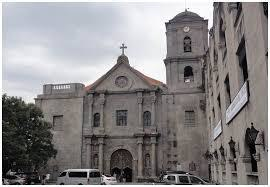san_agustin_church_intramuros_manila: (83, 4, 213, 187)
